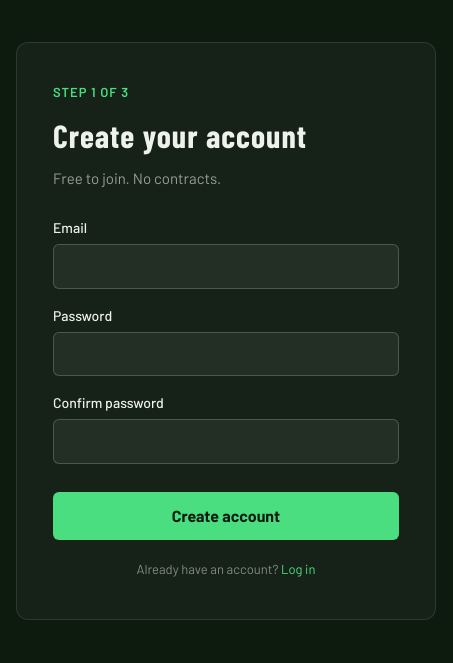
Test: ClientSignupPage › shows server error on signUp failure
Type "test@example.com" into the field labelled "Email" at coordinates (226, 266), box [53,244,399,288]
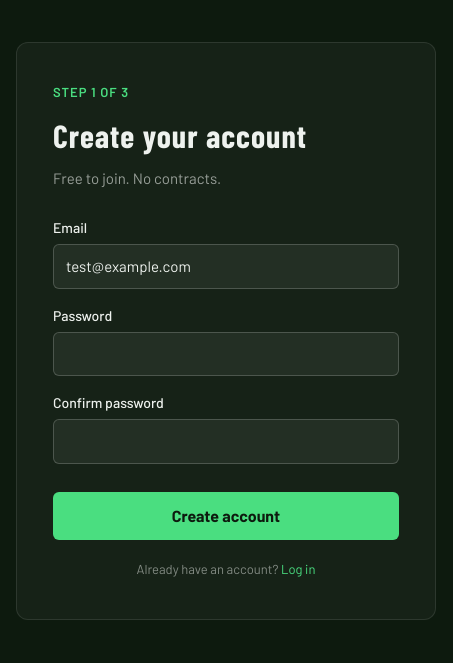
Type "Password1!" into the password field labelled "Password" at coordinates (226, 354), box [53,332,399,376]
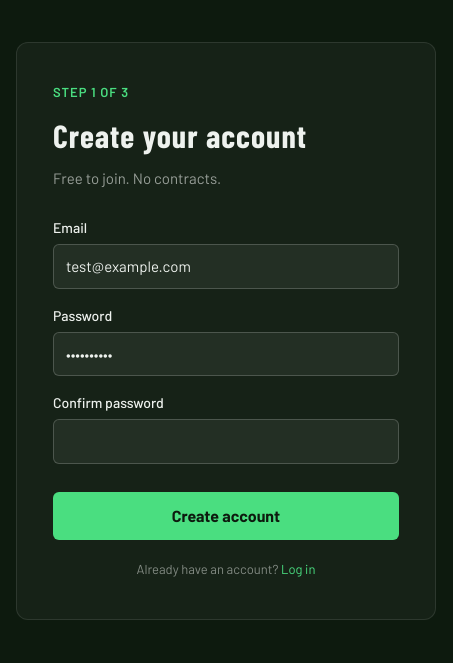
Type "Password1!" into the password field labelled "Confirm password" at coordinates (226, 441), box [53,419,399,464]
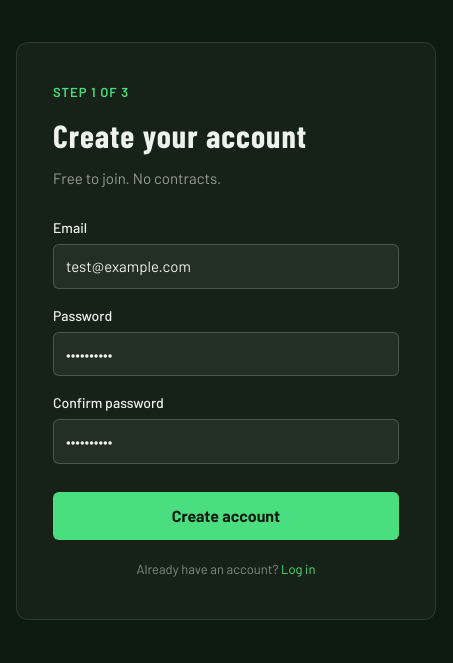
Click the button "Create account" at coordinates (226, 516), box [53,492,399,540]
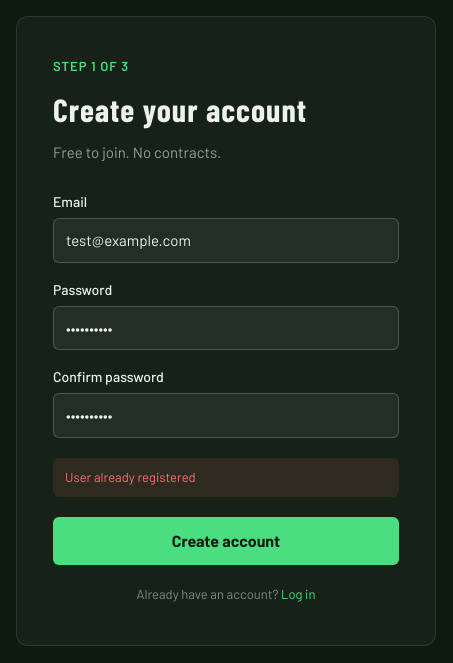
Check: the text "User already registered" is shown, box [53,458,399,497]
